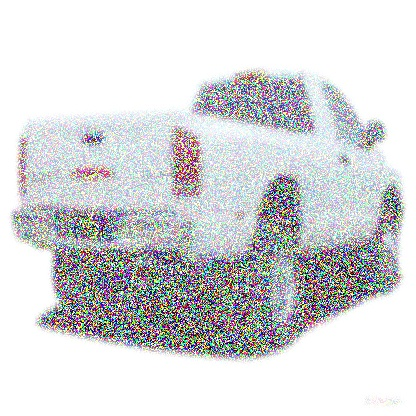Vehicle: (10, 64, 406, 358)
